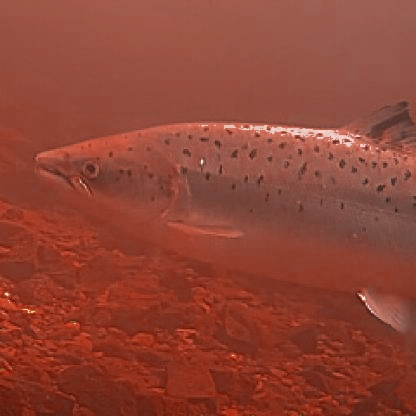salmon: (26, 95, 414, 333)
